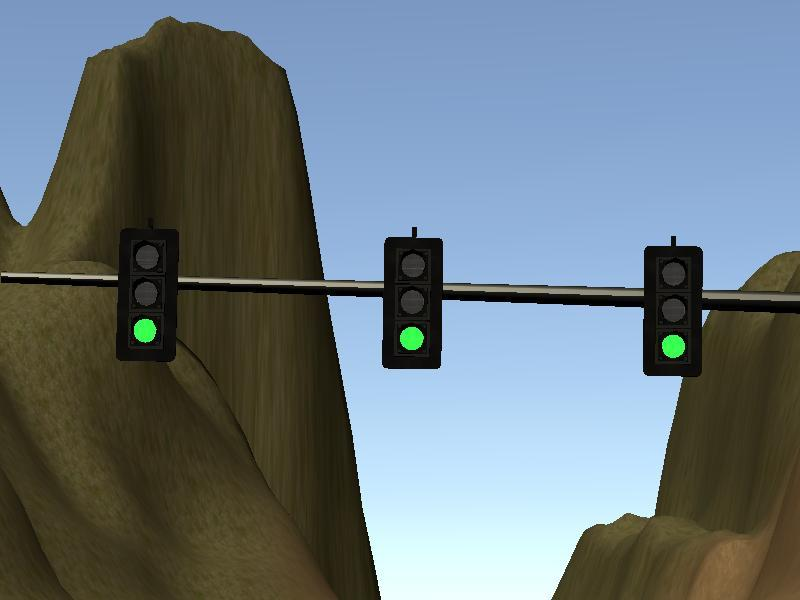Green: (384, 237, 443, 369), (644, 245, 703, 377), (118, 229, 176, 360)
